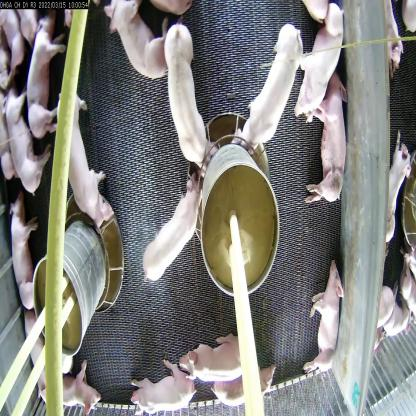Pig: (161, 15, 215, 174), (236, 21, 297, 155), (60, 85, 110, 233), (141, 180, 208, 284), (297, 1, 345, 125), (5, 210, 53, 308), (2, 84, 44, 188), (29, 17, 63, 145), (107, 1, 165, 75), (37, 347, 99, 415), (203, 365, 275, 415), (184, 327, 245, 383), (318, 85, 350, 191), (128, 369, 200, 416), (309, 268, 335, 386)
